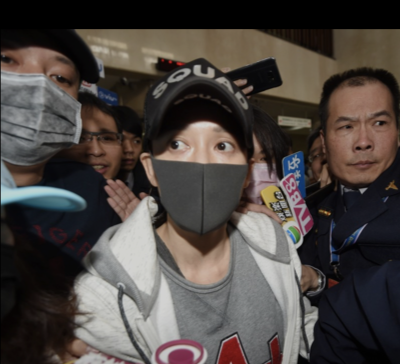with_mask: (151, 118, 247, 234), (1, 49, 81, 165), (243, 149, 283, 208)
without_mask: (325, 106, 397, 185), (68, 124, 124, 186), (116, 133, 140, 173)
